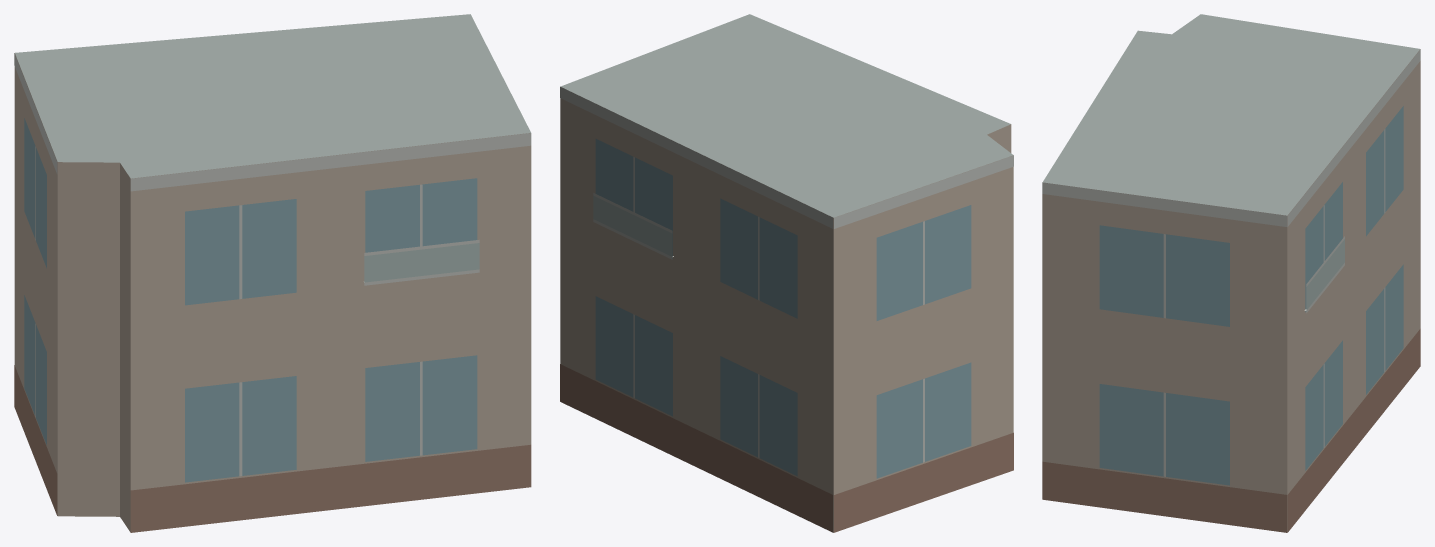
File: survey-upis-32965710.glb
3 renders of one model, left to right at view 1: azimuth 30°, elevation 25°; view 2: azimuth 150°, elevation 25°; view 3: azimuth 270°, elevation 25°, orthographic. The views are drawn at different scales.
Parts seen in each view (by area): view 1: survey-upis-32965710.tmp; view 2: survey-upis-32965710.tmp; view 3: survey-upis-32965710.tmp.
Part boxes in pixels (x1,y1,x2,y2): survey-upis-32965710.tmp: [14, 14, 531, 532]; survey-upis-32965710.tmp: [560, 14, 1013, 532]; survey-upis-32965710.tmp: [1042, 14, 1420, 532].
Bounding box in the file's own units: 9.14 × 6.7 × 7.25.
